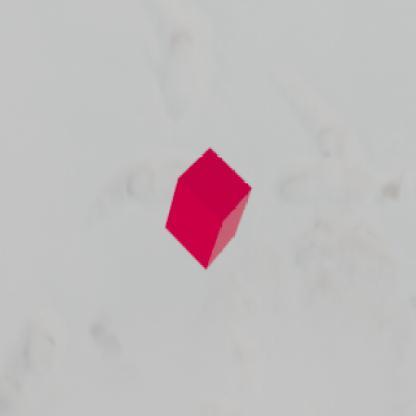cube: (164, 146, 252, 270)
